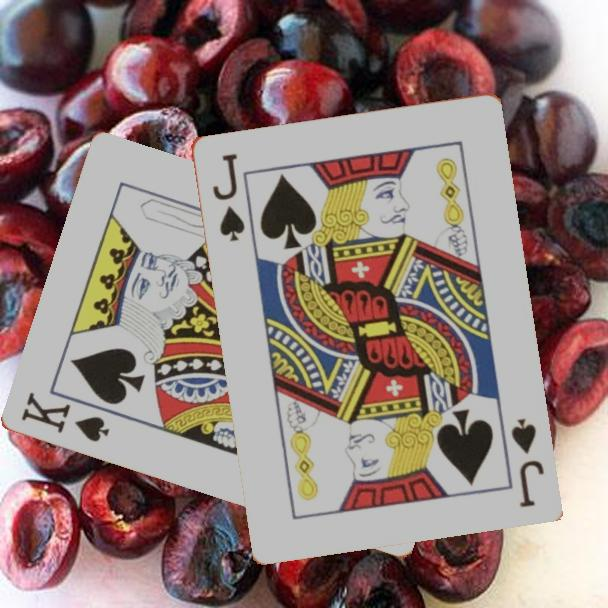s11: (507, 414, 547, 510), (208, 149, 248, 244)
s13: (17, 389, 112, 445)
